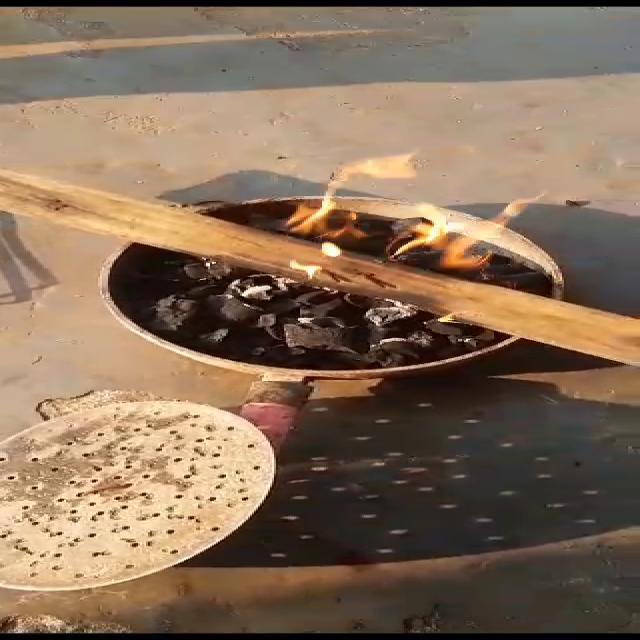Fire: (254, 138, 538, 300)
